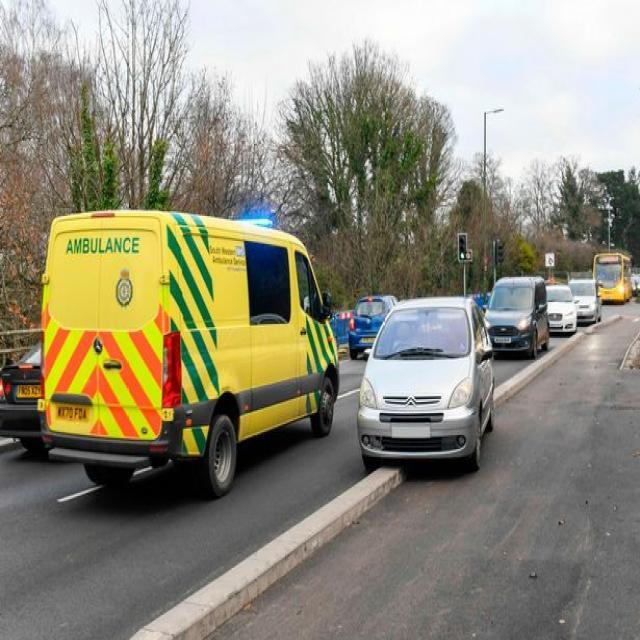emergency-vehicle: (27, 196, 344, 492)
